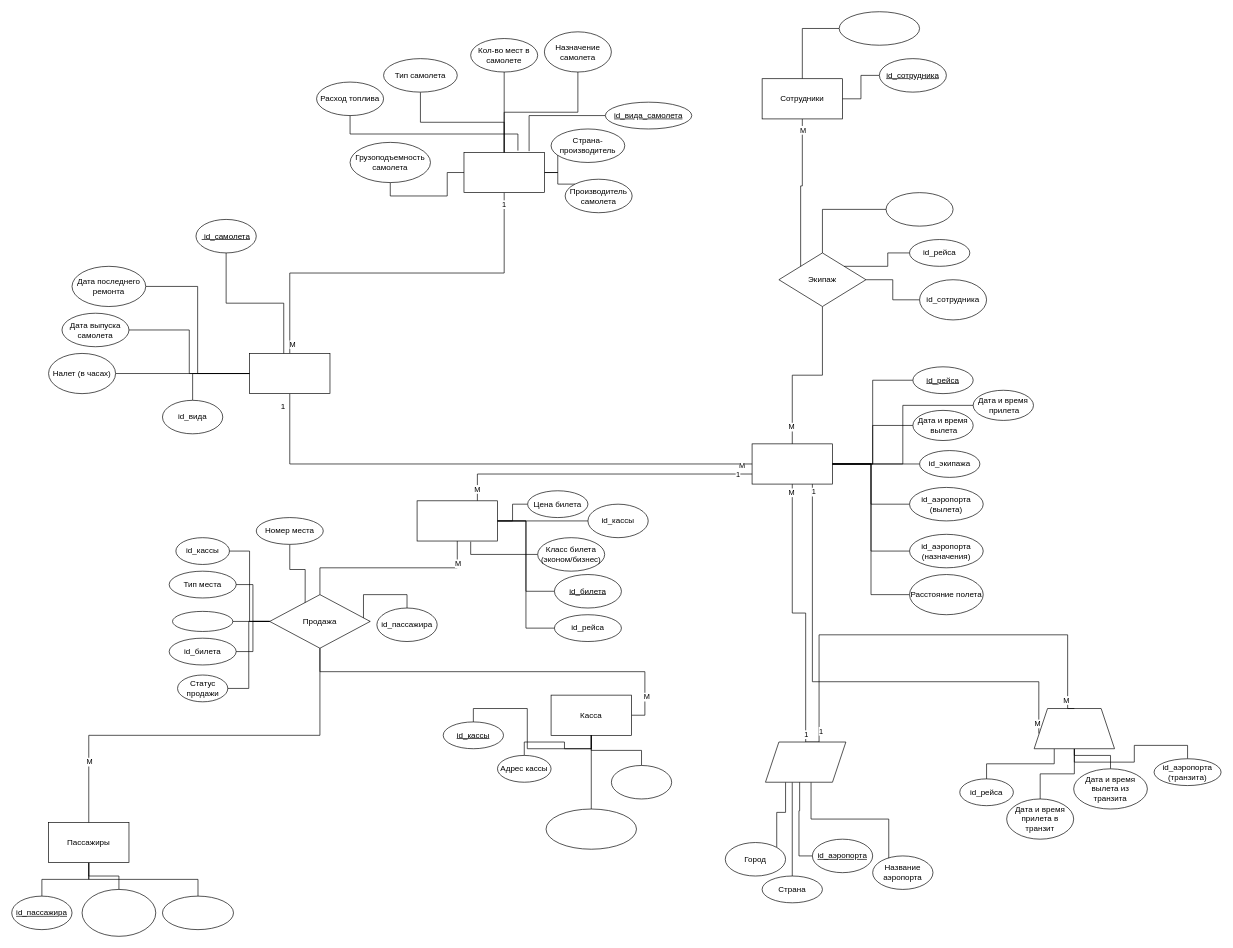
Some shapes in this 1233 by 948 pixel diagram are drawn without their labels. Here are the shapes that lost their labels. From the top down, the centre of each, then its label:
At point (879, 28): "Паспортные данные сотрудников".
At point (503, 172): "Виды самолетов".
At point (919, 209): "Статус экипажа".
At point (289, 373): "Самолет".
At point (791, 463): "Рейсы".
At point (456, 520): "Билеты".
At point (202, 621): "Дата продажи".
At point (1074, 728): "транзитные посадки".
At point (805, 761): "Аэропорты".
At point (641, 782): "Тип кассы".
At point (590, 828): "Список рейсов с датами и временем".
At point (118, 912): "Паспортные данные пассажира".
At point (197, 912): "ФИО пассажира".
